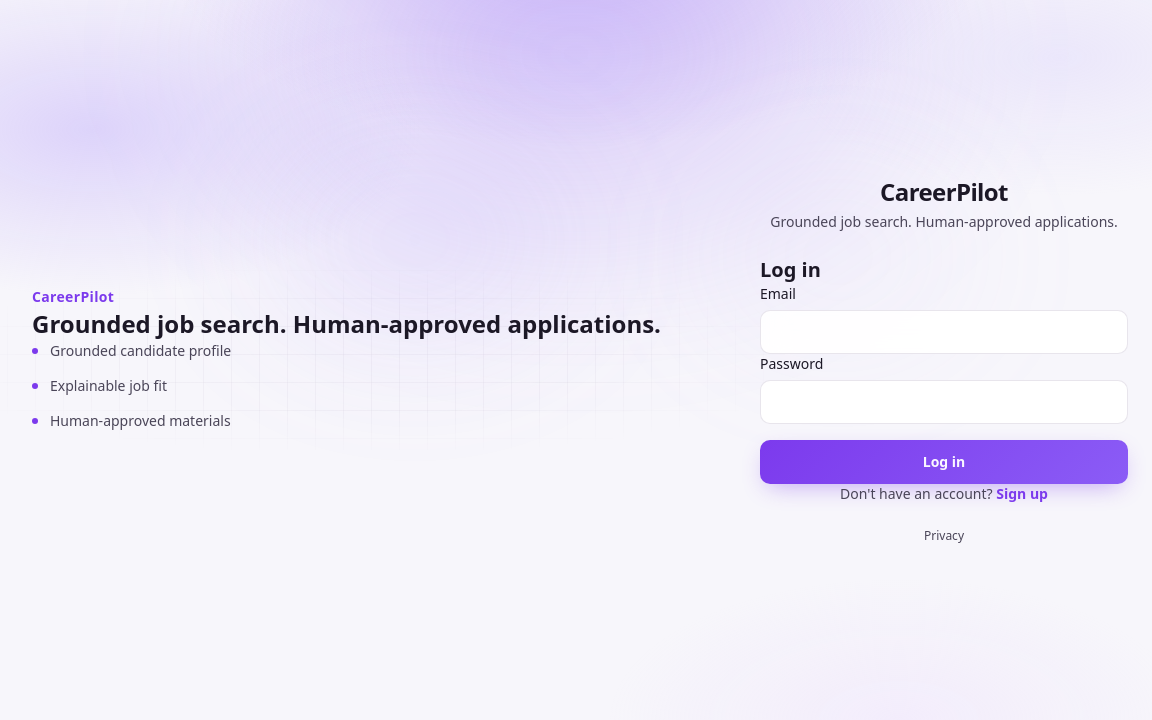
Test: auth pages › lets a visitor move between login and signup
This screenshot has width=1152, height=720.
Expected: the heading "Log in" is shown, [760,256,821,283]
Click the link "Sign up" at (1022, 494), box [996,484,1048,503]
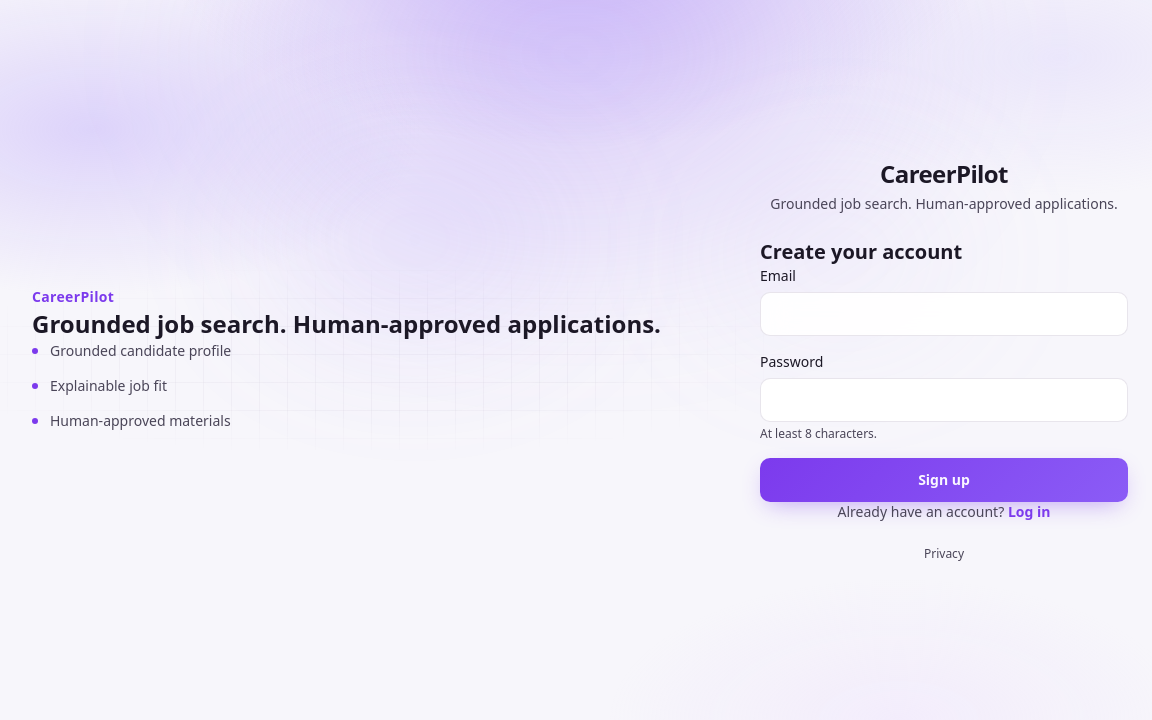
Result: the heading "Create your account" is shown at [760,238,962,265]
Click the link "Log in" at (1029, 512), box [1008,502,1050,521]
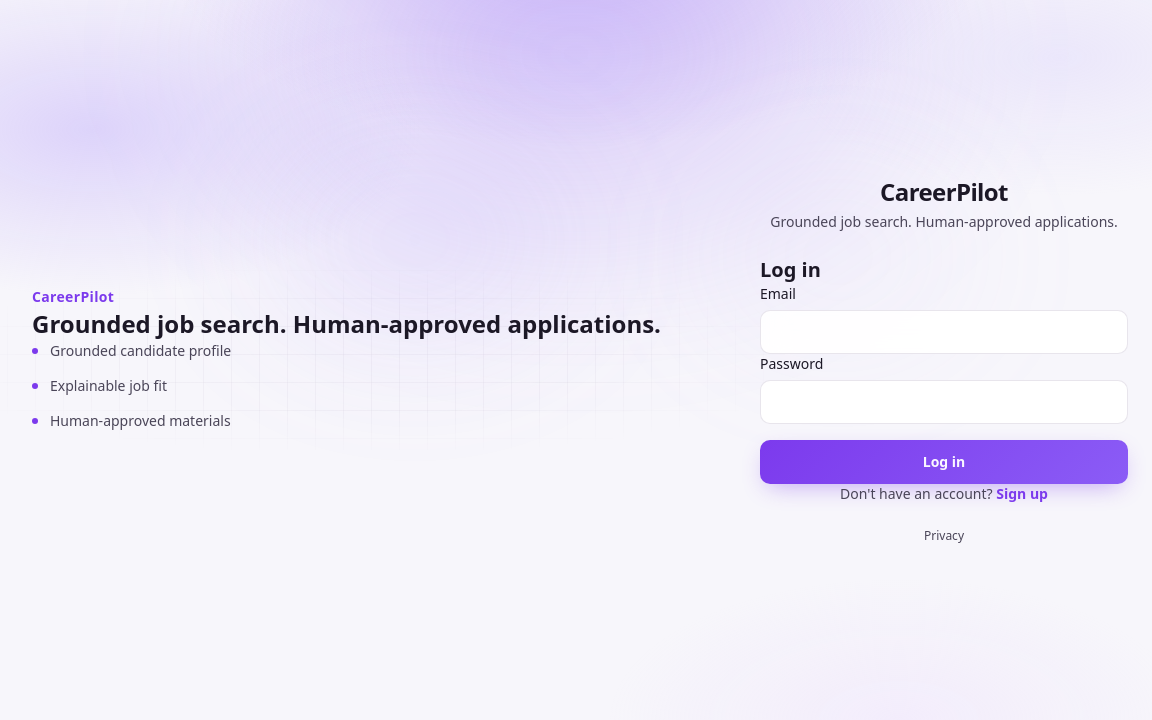
Result: the heading "Log in" is shown at [760,256,821,283]
